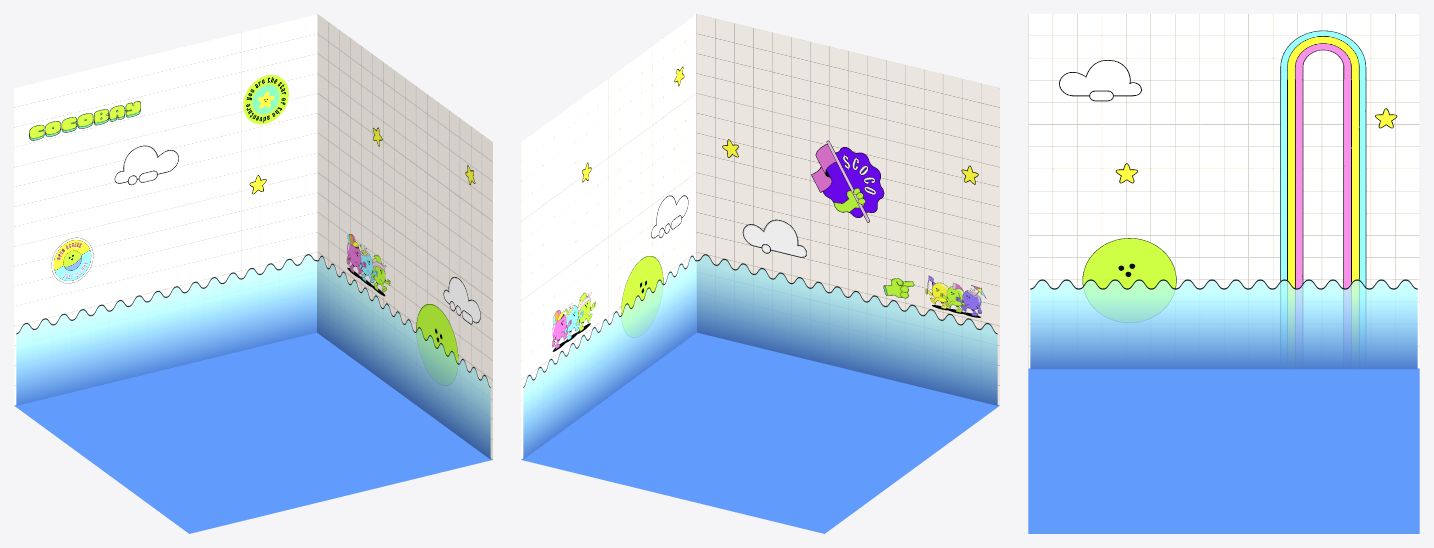
The model's file is cocobay_skybox.gltf.
3 views of the same model, side by side, from view 1: azimuth 30°, elevation 25°; view 2: azimuth 150°, elevation 25°; view 3: azimuth 270°, elevation 25° (orthographic). The views are drawn at different scales.
Parts seen in each view (by area): view 1: cocobay_skybox_glb; view 2: cocobay_skybox_glb; view 3: cocobay_skybox_glb.
Boxes of the visible parts, x1,y1,x2,y2 form: cocobay_skybox_glb: [14, 14, 492, 533]; cocobay_skybox_glb: [521, 14, 999, 533]; cocobay_skybox_glb: [1028, 14, 1419, 533].
Size of what is drawn, in the model's own units: 48 by 48 by 48.
4 materials, 4 textured.
